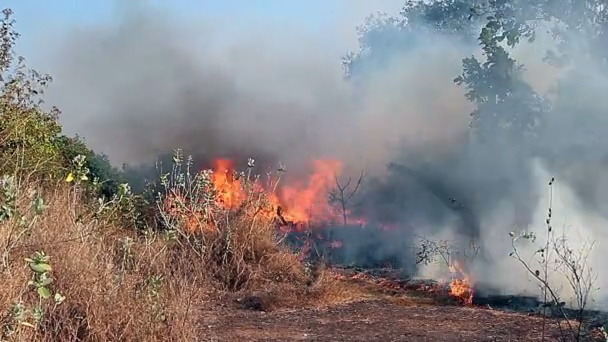fire: (213, 170, 237, 201), (282, 201, 307, 221), (450, 277, 464, 293), (65, 173, 72, 182)
